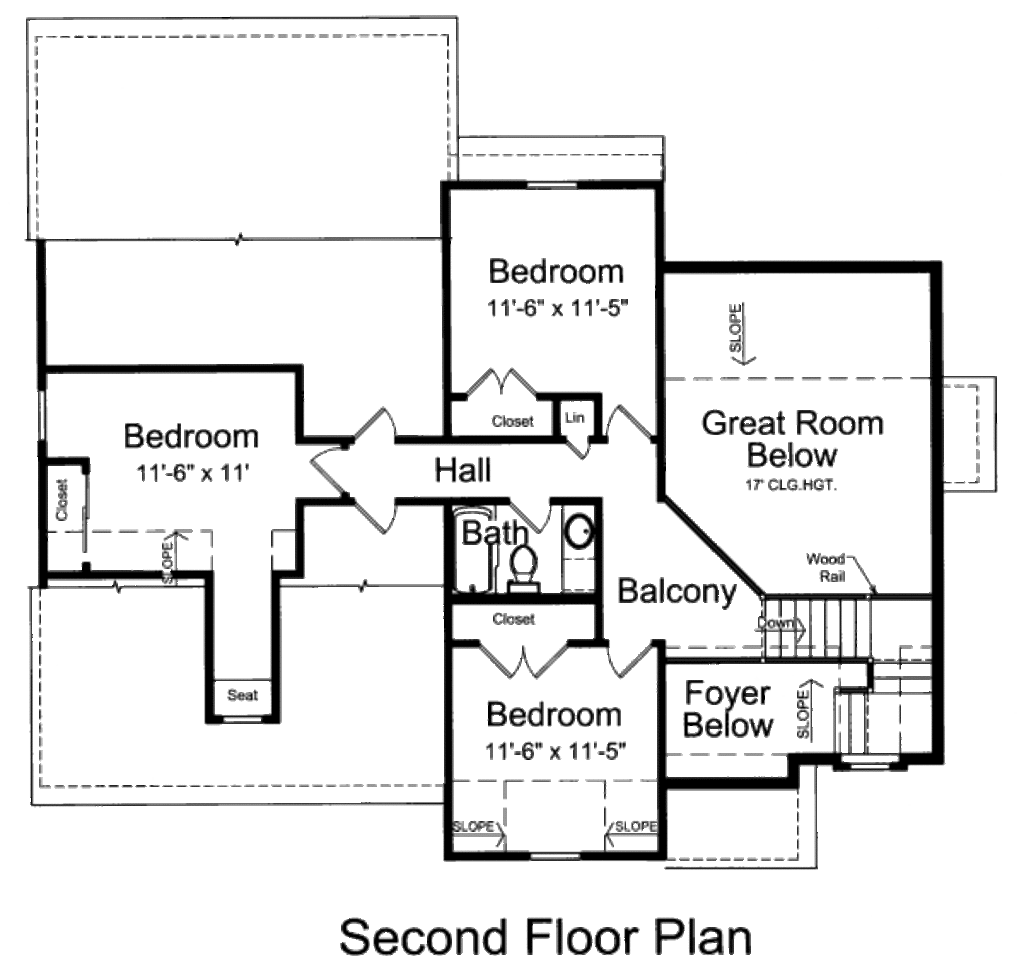door: (471, 636, 572, 680), (593, 399, 653, 445), (464, 365, 539, 401), (602, 637, 653, 682), (349, 407, 409, 445), (305, 445, 346, 494), (351, 492, 398, 534), (511, 496, 557, 534)
large_sink: (502, 539, 541, 595)
small_sink: (558, 500, 598, 591)
stairs: (757, 594, 941, 753)
tub: (454, 501, 499, 589)
windows: (518, 176, 584, 195), (32, 385, 52, 442), (213, 708, 266, 729), (525, 847, 590, 862)
